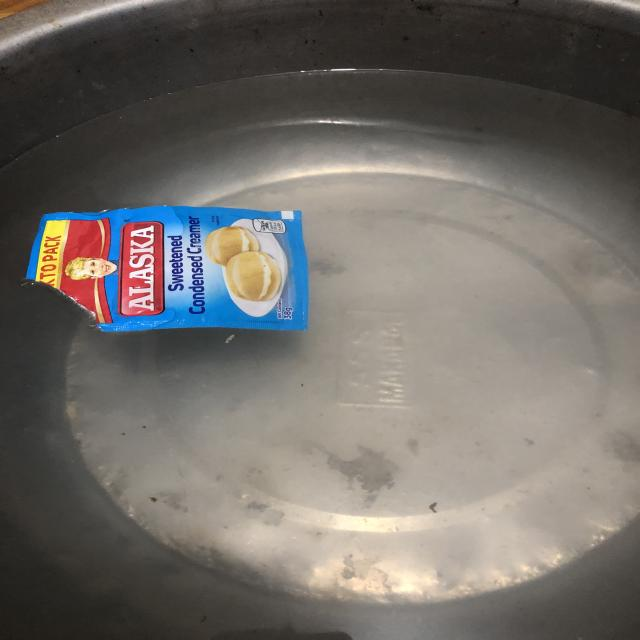Plastic Wrapper: (26, 206, 308, 331)
